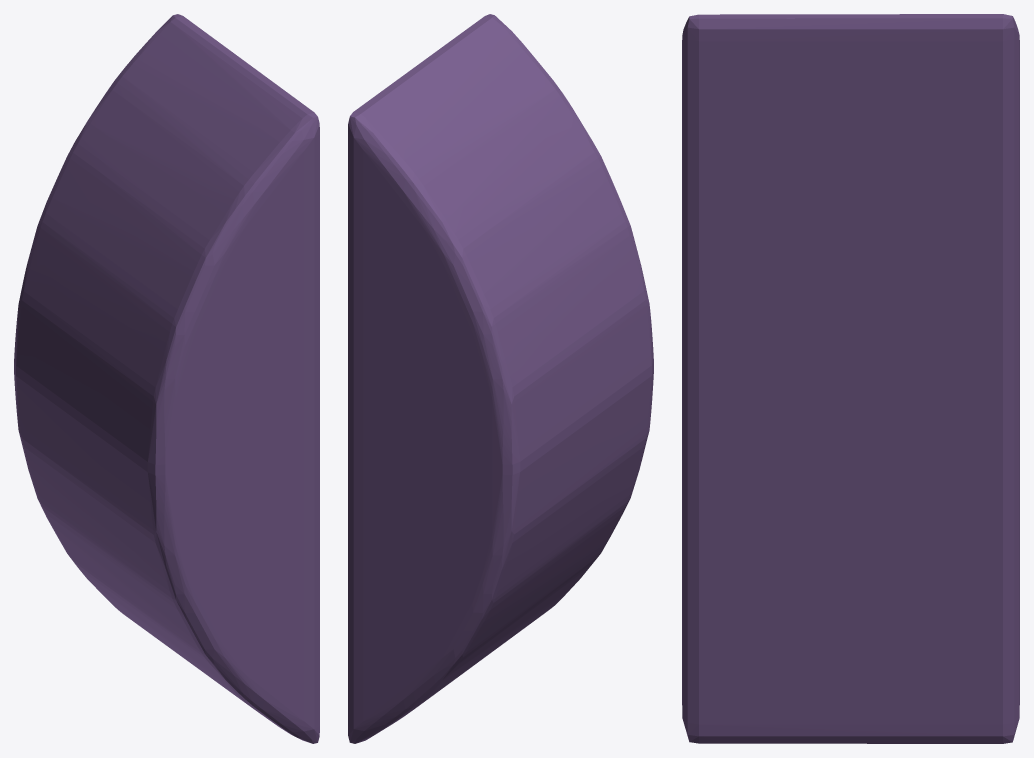
File: left_forearm_collision_part_1.obj
3 renders of one model, left to right at view 1: azimuth 30°, elevation 25°; view 2: azimuth 150°, elevation 25°; view 3: azimuth 270°, elevation 25°, orthographic. The views are drawn at different scales.
Bounding box in the file's own units: 32.09 × 113 × 47.76.
